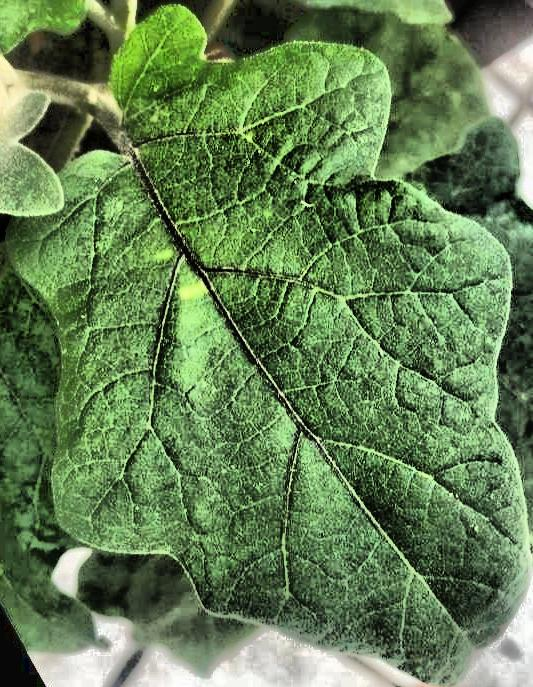HEALTHY: (0, 1, 533, 687)
